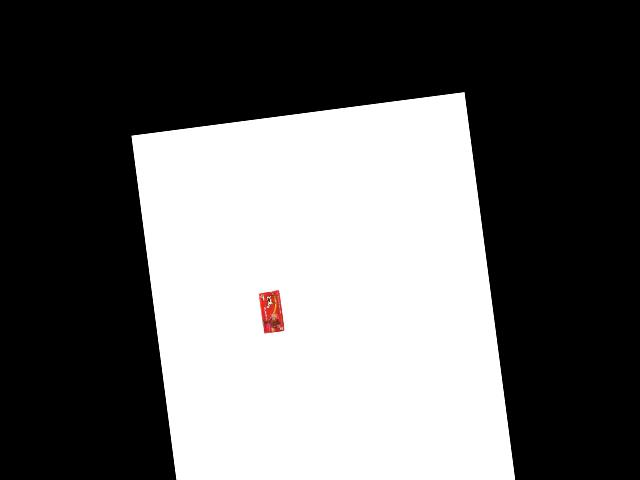chocolate: (258, 287, 286, 334)
